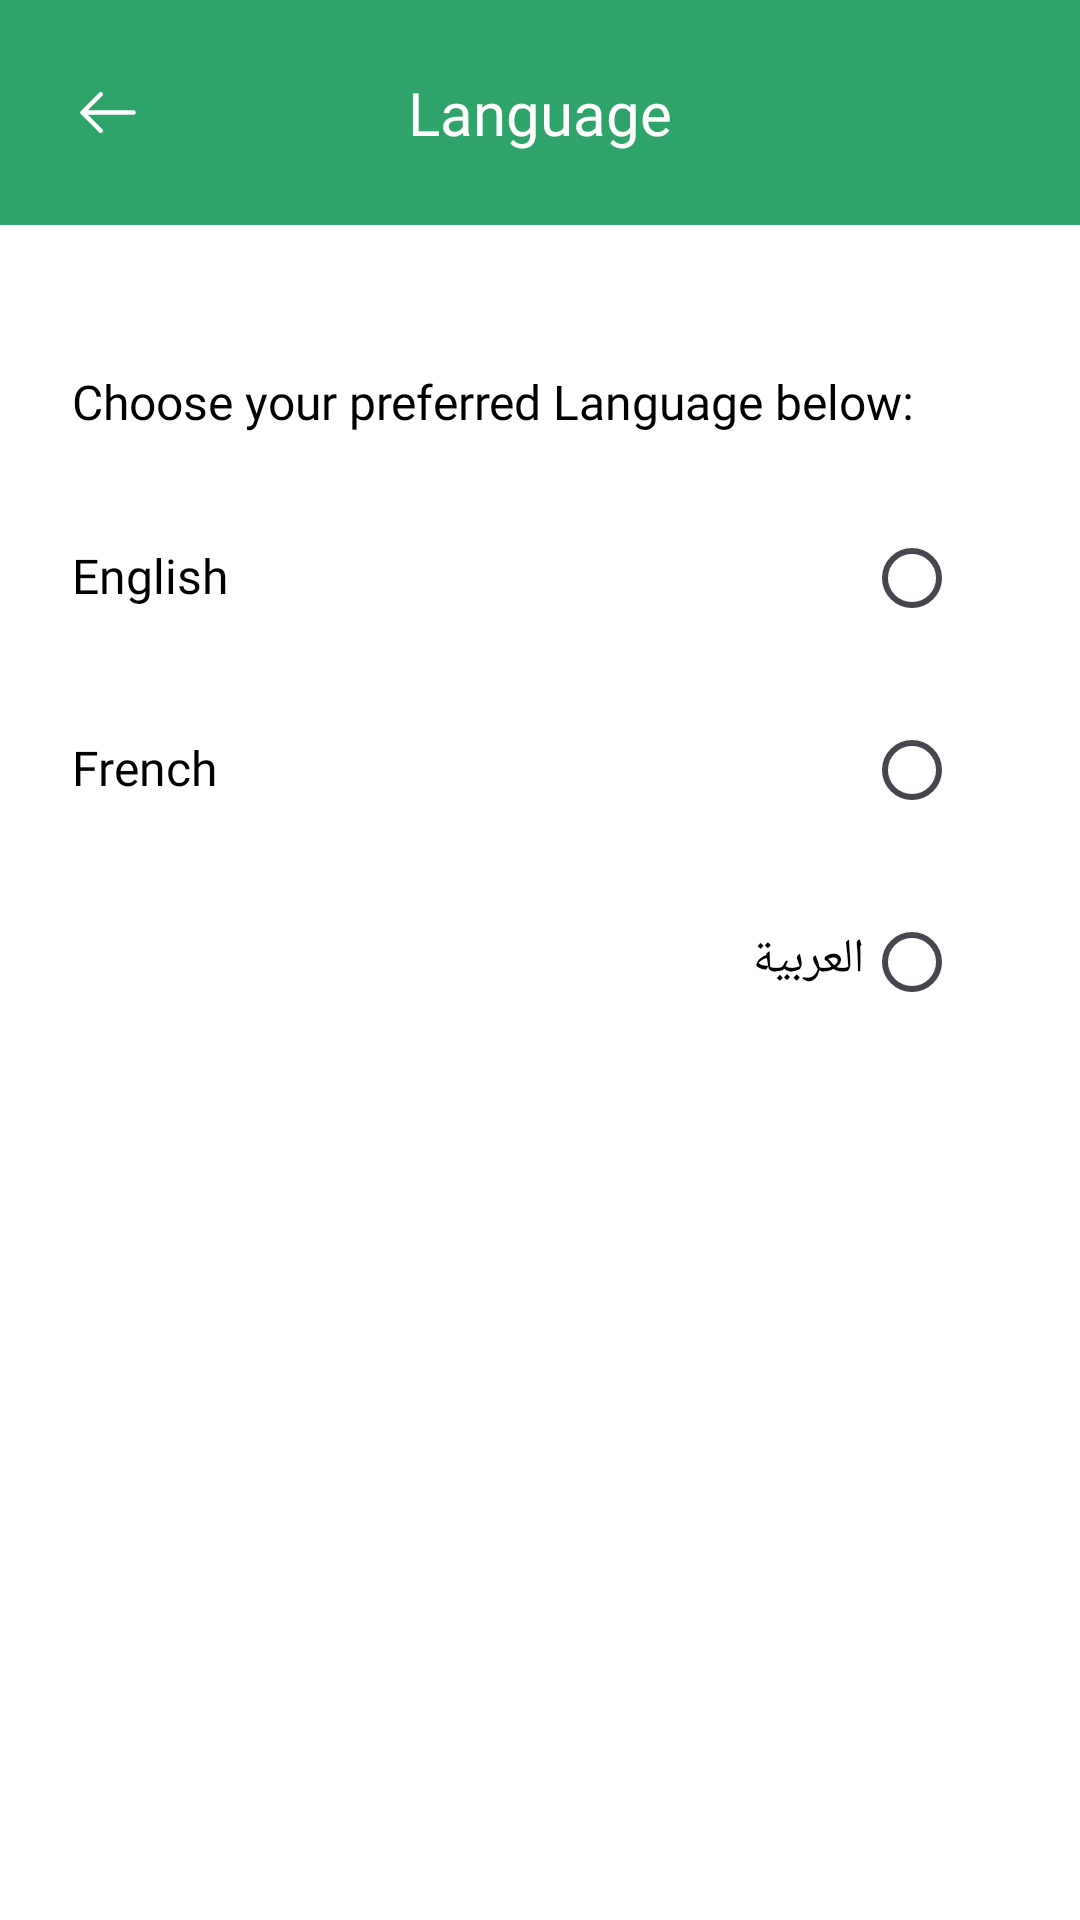

Icon bounding boxes for this 1080px×1920px phone screenshot, format (x1, y1, x2, y2):
arrow: (80, 92, 136, 133)
